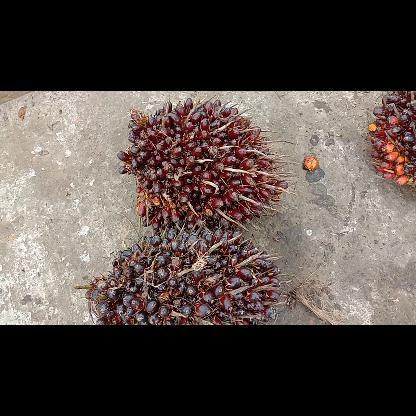Kurang masak: (80, 230, 280, 324)
TBS masak: (118, 96, 288, 228)
